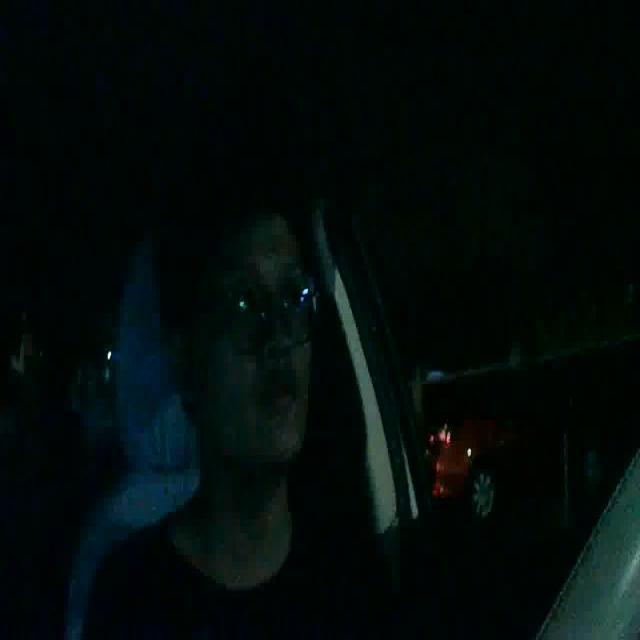Attentive: (160, 181, 326, 469)
Eye-Open: (223, 281, 252, 320), (280, 284, 309, 318)
Normal: (258, 367, 302, 414)
